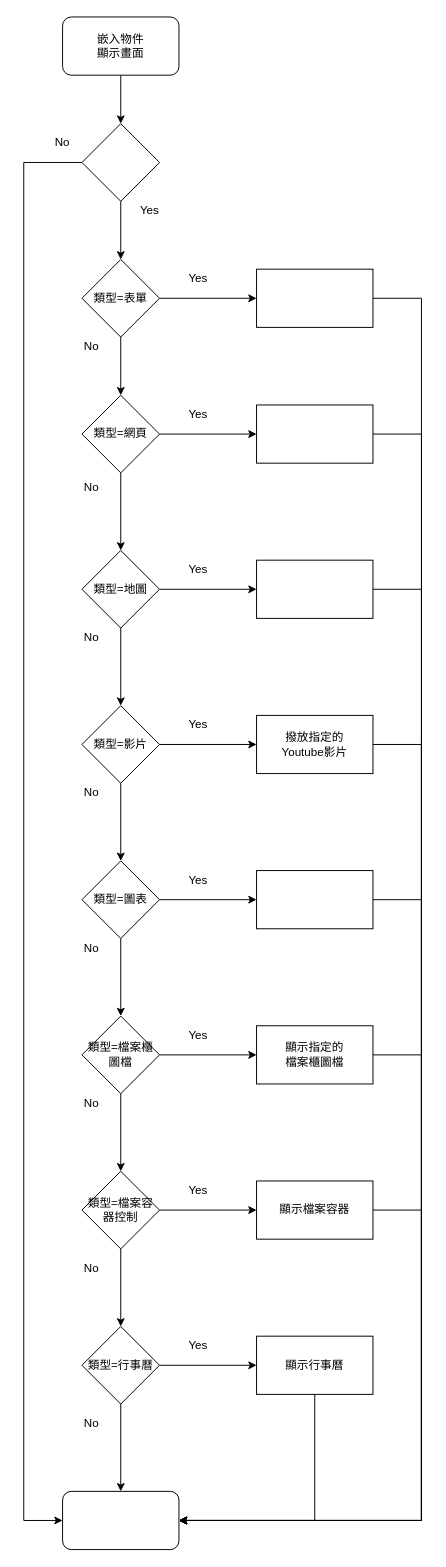
The diagram is 446 pixels wide and 1567 high, and some of its shapes have lost their labels. Each missing label, with the centre of its shape:
"執行條件 成立否" goes at (x=120, y=162).
"執行結束" goes at (x=120, y=1520).
"開啟地圖 並依設定顯示地標" goes at (x=314, y=588).
"開啟指定的圖表" goes at (x=314, y=899).
"開啟指定的網頁" goes at (x=314, y=433).
"開啟指定的表單" goes at (x=314, y=297).
